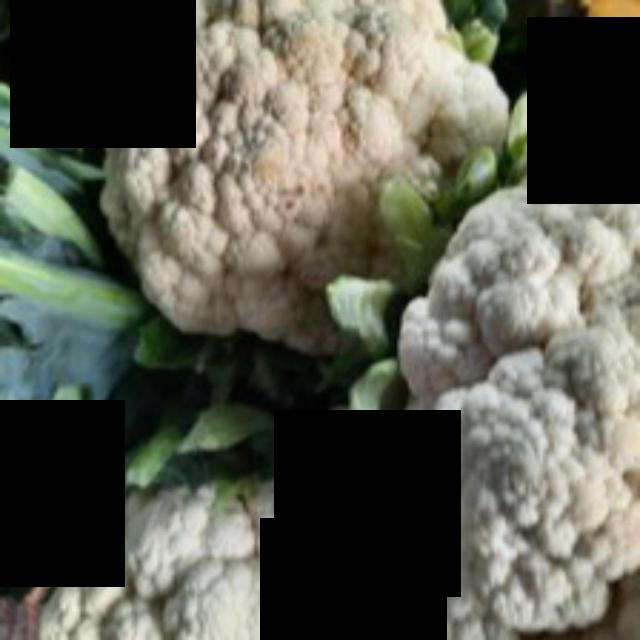cauliflower: (357, 151, 637, 637)
